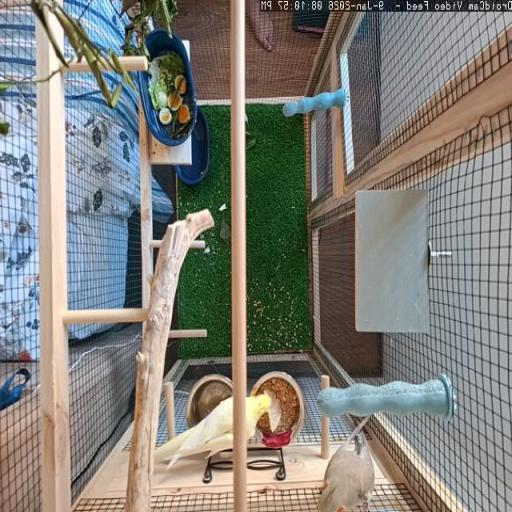bebedero: (187, 373, 232, 427)
comedero: (251, 371, 304, 446), (257, 416, 271, 445)
ninfa: (155, 397, 233, 467), (319, 443, 374, 511), (246, 395, 270, 438)
